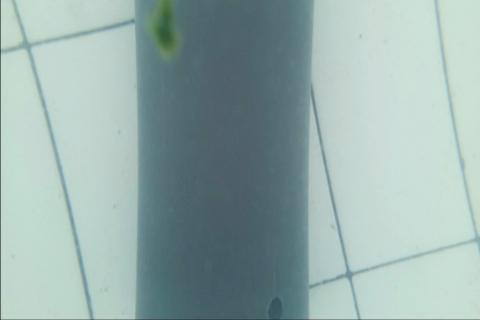kebocoran: (265, 294, 284, 319)
